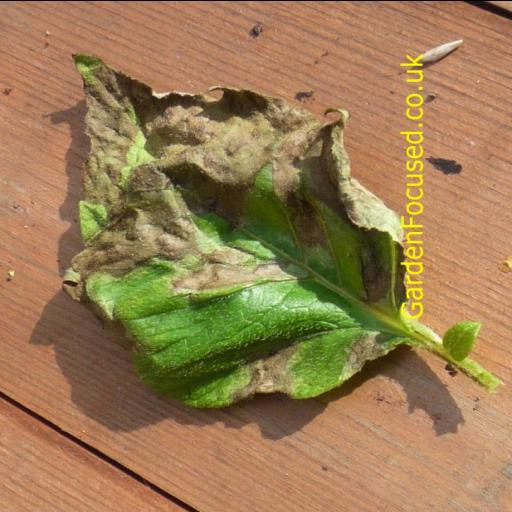Late Blight: (58, 50, 422, 416)
